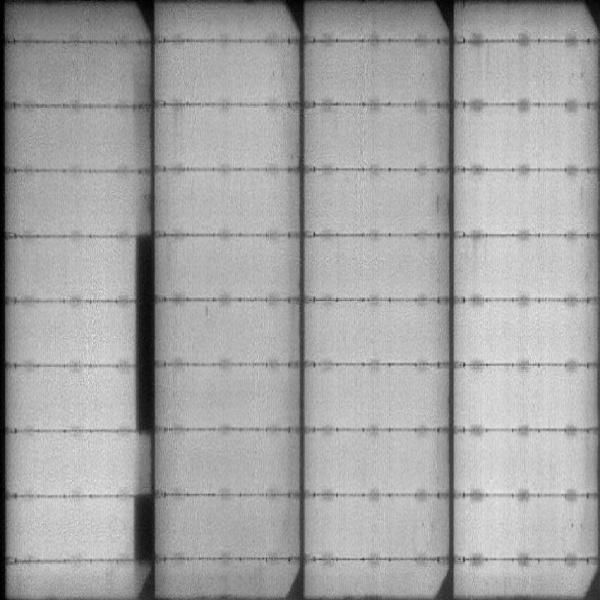black_border: (131, 226, 156, 436), (129, 491, 157, 599)
